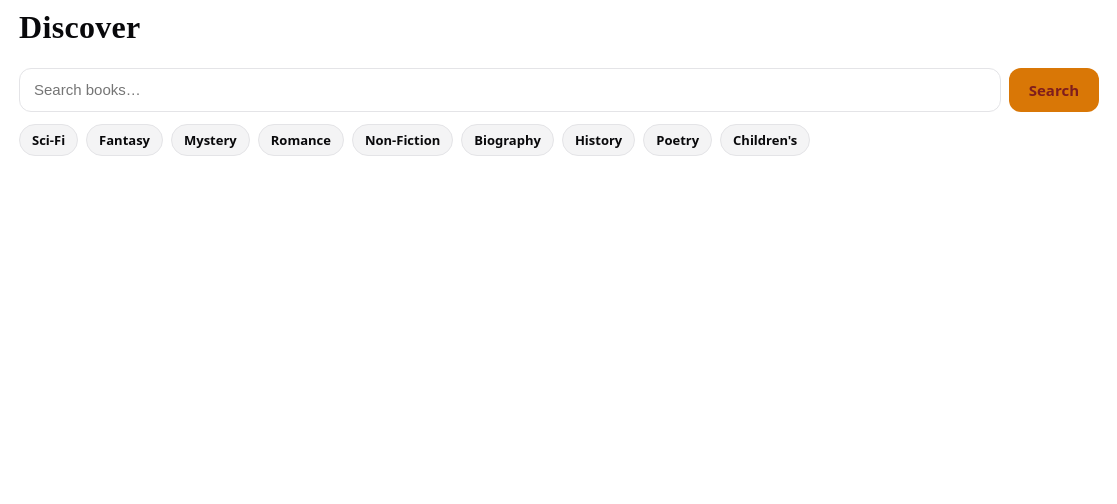
Discover › shows results returned by the search API
In the field with placeholder "Search books…": (510, 90) x1=19 y1=68 x2=1001 y2=112, type "dune"
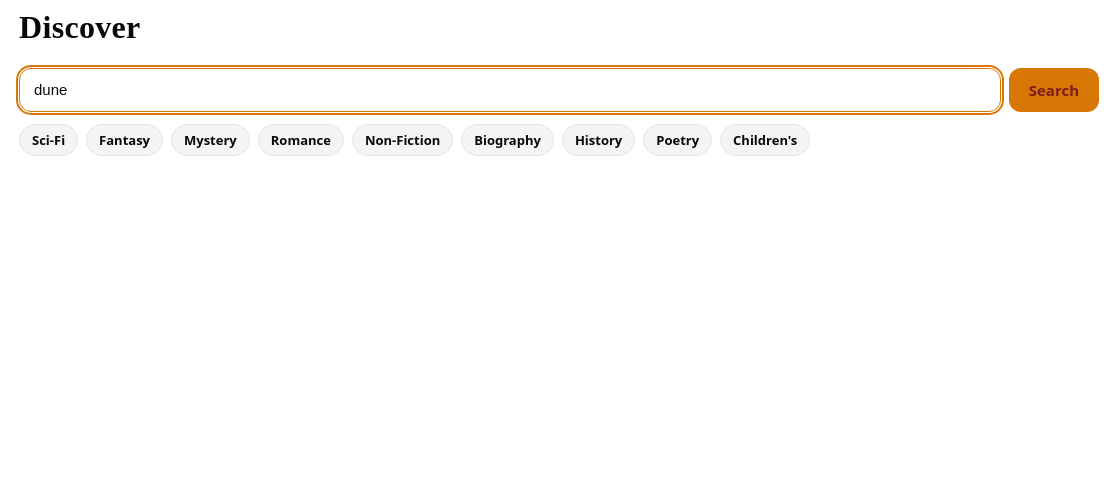
Click the button "Search": (1054, 90) x1=1009 y1=68 x2=1099 y2=112
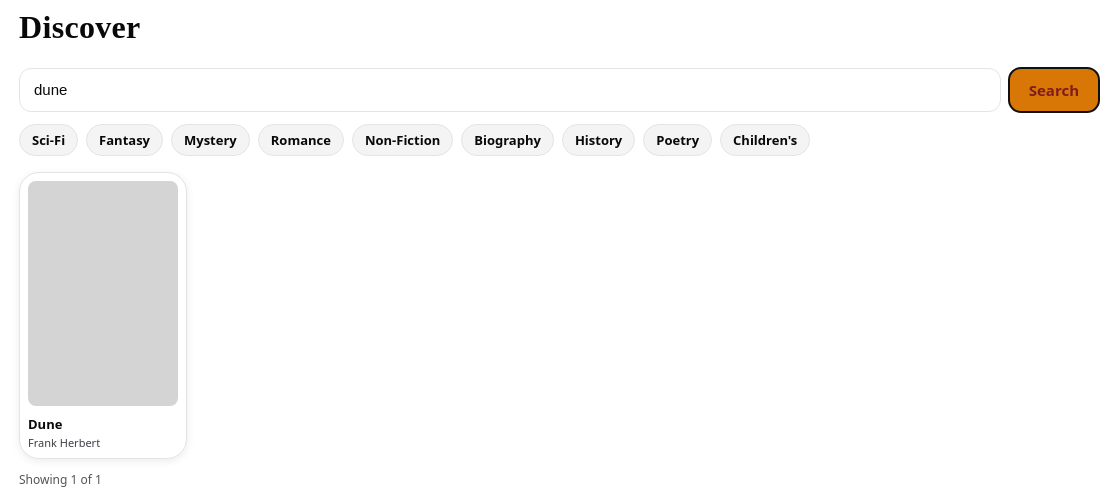
expect the text "Dune" is shown: met, box x1=28 y1=415 x2=62 y2=433
expect the text "Frank Herbert" is shown: met, box x1=28 y1=435 x2=100 y2=450
